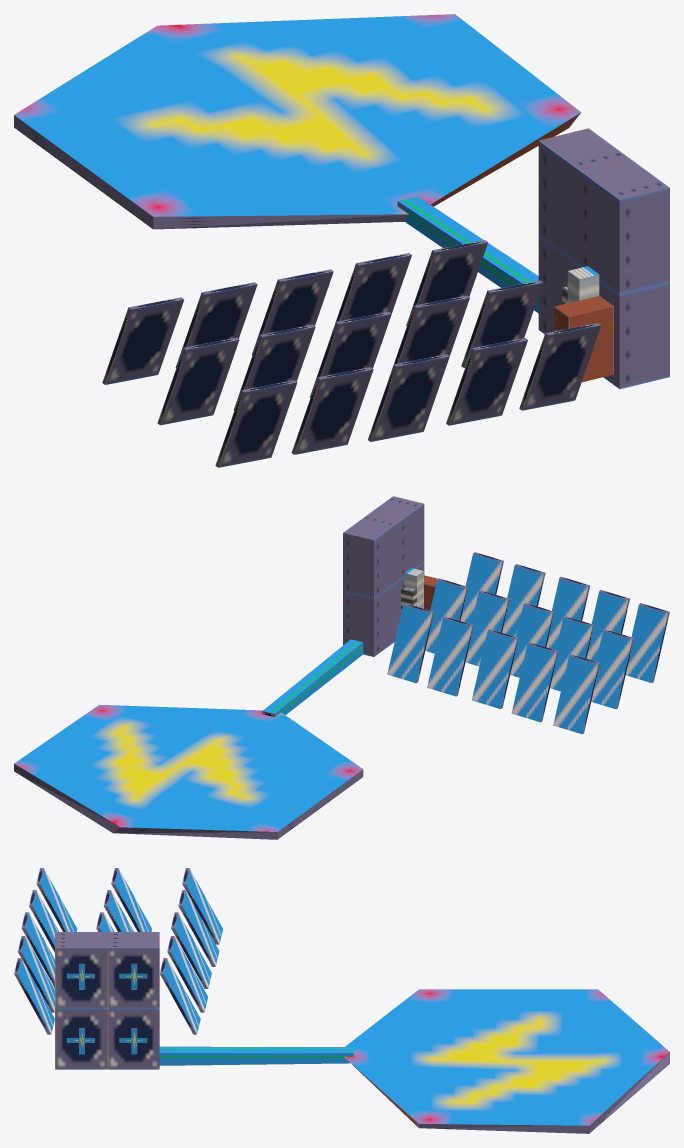
Rendered from Solar-Station.gltf.
3 views of the same model, one above another, from view 1: azimuth 30°, elevation 25°; view 2: azimuth 150°, elevation 25°; view 3: azimuth 270°, elevation 25° (orthographic). The views are drawn at different scales.
Size of the model in its own units: 31.7 by 9.1 by 43.9.
1 material, 1 textured.
